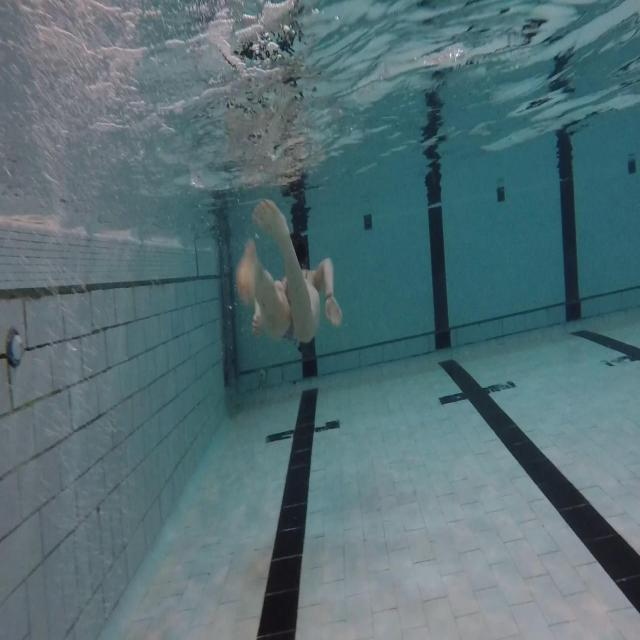human: (235, 197, 343, 346)
